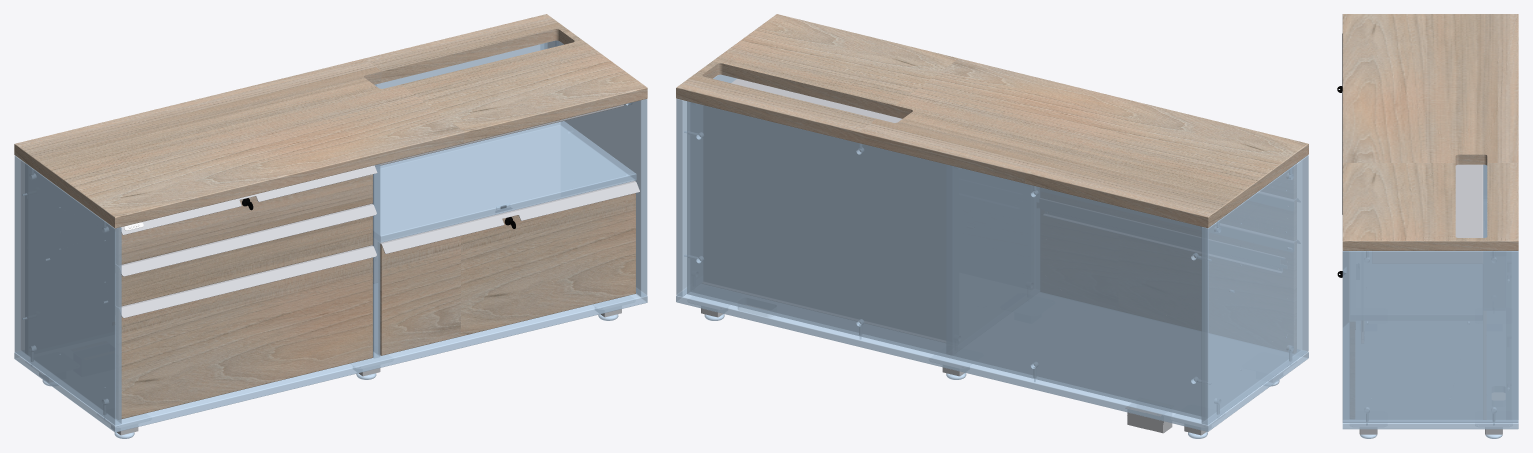
The model's file is LKAL170000_IZ_150.glb.
The picture shows the model from 3 angles, left to right: view 1: azimuth 30°, elevation 25°; view 2: azimuth 150°, elevation 25°; view 3: azimuth 270°, elevation 25°; orthographic projection. The views are drawn at different scales.
Parts seen in each view (by area): view 1: 4 (×4), 74, 79, 65, 75, 61; view 2: 4 (×4), 74, 66, 75, 70; view 3: 4 (×4), 74, 79.
Boxes of the visible parts, bbox=[...] form: 4 (×4): bbox=[14, 14, 647, 432]; 74: bbox=[373, 104, 623, 282]; 79: bbox=[380, 180, 639, 253]; 65: bbox=[118, 203, 376, 276]; 75: bbox=[117, 245, 376, 318]; 61: bbox=[120, 165, 377, 235]; 4 (×4): bbox=[676, 14, 1308, 431]; 74: bbox=[703, 78, 945, 342]; 66: bbox=[1037, 198, 1286, 272]; 75: bbox=[1040, 188, 1299, 251]; 70: bbox=[1125, 403, 1172, 433]; 4 (×4): bbox=[1342, 14, 1518, 429]; 74: bbox=[1372, 164, 1485, 419]; 79: bbox=[1343, 251, 1355, 326].
Bounding box in the file's own units: 1.53 × 0.643 × 0.5152.
5 materials, 1 textured.
